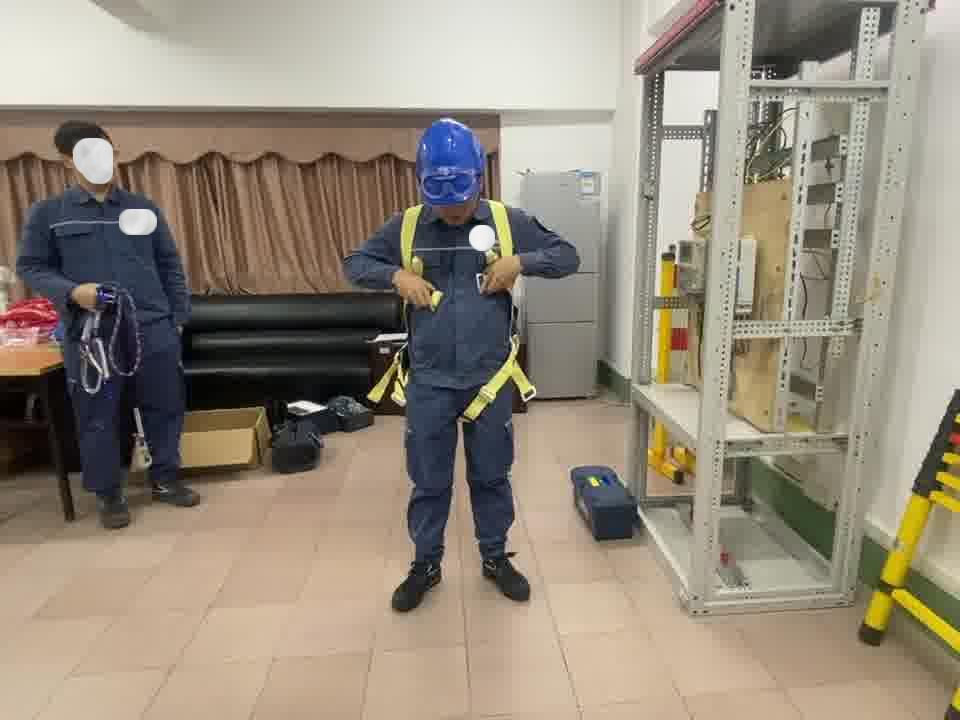halt: (417, 121, 489, 220)
noear: (60, 153, 94, 186)
unhalt: (57, 121, 123, 193)
